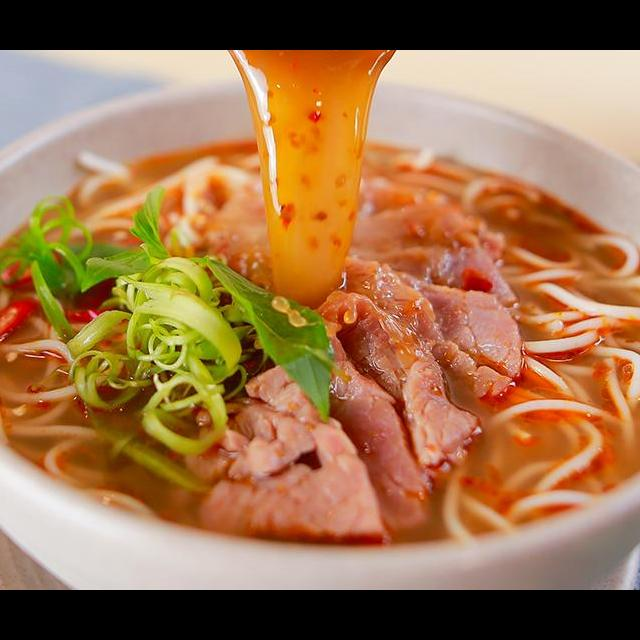bun: (0, 289, 164, 529), (435, 378, 640, 551), (496, 201, 640, 413)
bun bo: (0, 133, 640, 549)
thit bo: (170, 351, 393, 554), (238, 325, 441, 535), (302, 286, 484, 481), (332, 250, 528, 404), (347, 195, 522, 313)
